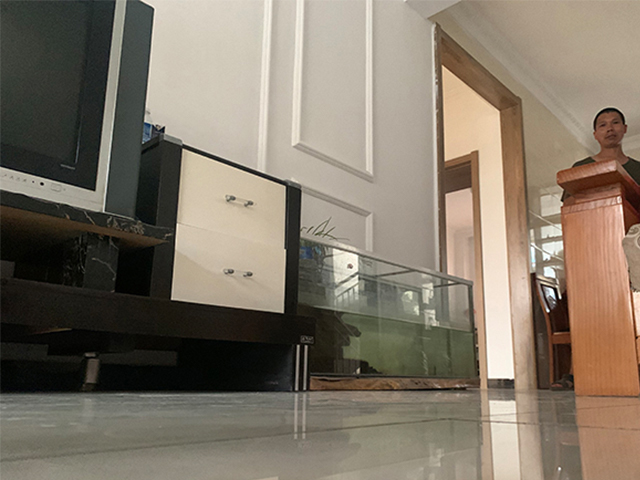cabinet: (1, 133, 314, 393)
stool: (533, 272, 572, 386)
